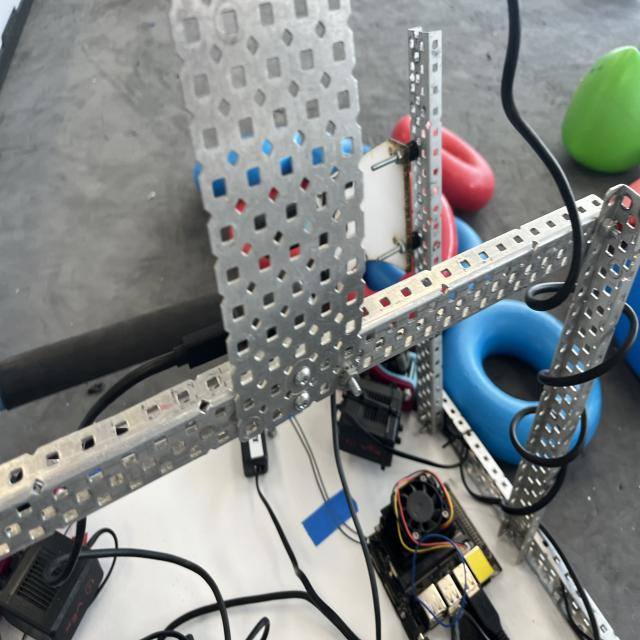Blue-Ring: (444, 300, 562, 465)
Red-Ring: (441, 127, 495, 212)
